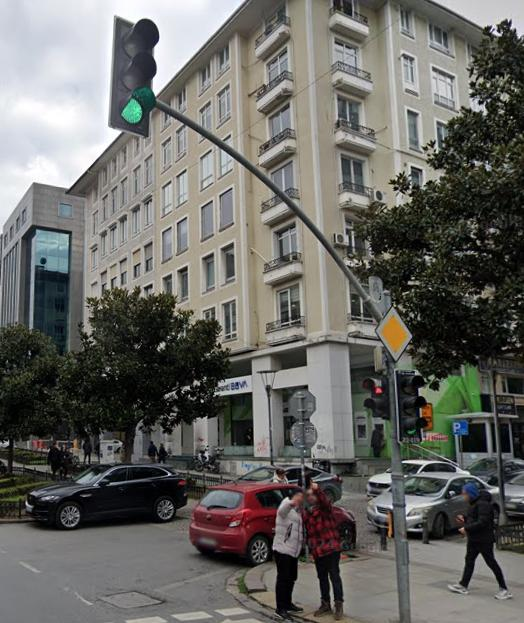greenlight: (114, 16, 153, 132)
